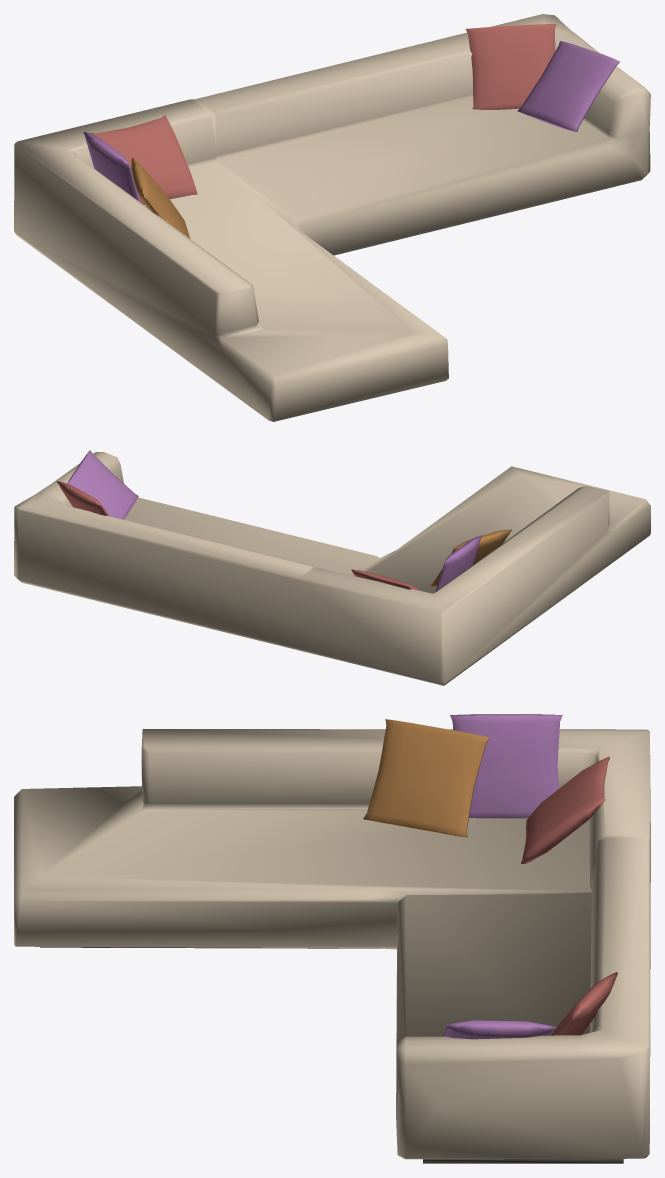
File: sofa 1.fbx
The picture shows the model from 3 angles, top to bottom: view 1: azimuth 30°, elevation 25°; view 2: azimuth 150°, elevation 25°; view 3: azimuth 270°, elevation 25°; orthographic projection. The views are drawn at different scales.
Parts seen in each view (by area): view 1: sofa, pillow3, pillow4, pillow1, pillow2, pillow5; view 2: sofa, pillow4, pillow2, pillow3, pillow5, pillow1; view 3: sofa, pillow5, pillow2, pillow1, pillow4, pillow3.
Part boxes in pixels (x1,y1,x2,y2): sofa: (14, 14, 650, 421); pillow3: (465, 24, 556, 109); pillow4: (517, 41, 619, 131); pillow1: (90, 115, 197, 204); pillow2: (83, 131, 141, 202); pillow5: (131, 158, 190, 238); sofa: (14, 452, 650, 685); pillow4: (67, 450, 138, 519); pillow2: (435, 535, 481, 591); pillow3: (56, 481, 109, 516); pillow5: (430, 529, 512, 586); pillow1: (351, 569, 419, 590); sofa: (14, 729, 650, 1163); pillow5: (363, 719, 489, 837); pillow2: (450, 714, 562, 818); pillow1: (521, 756, 609, 863); pillow4: (442, 1020, 556, 1039); pillow3: (551, 972, 617, 1035).
Size of the model in its own units: 600 by 138 by 499.
